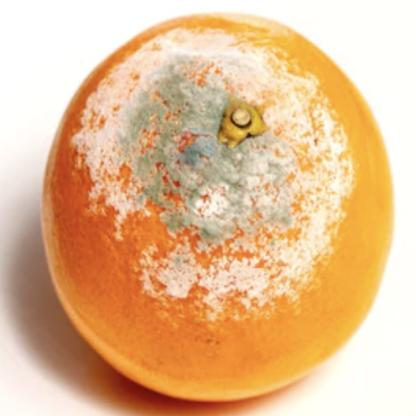rotten: (42, 9, 390, 407)
